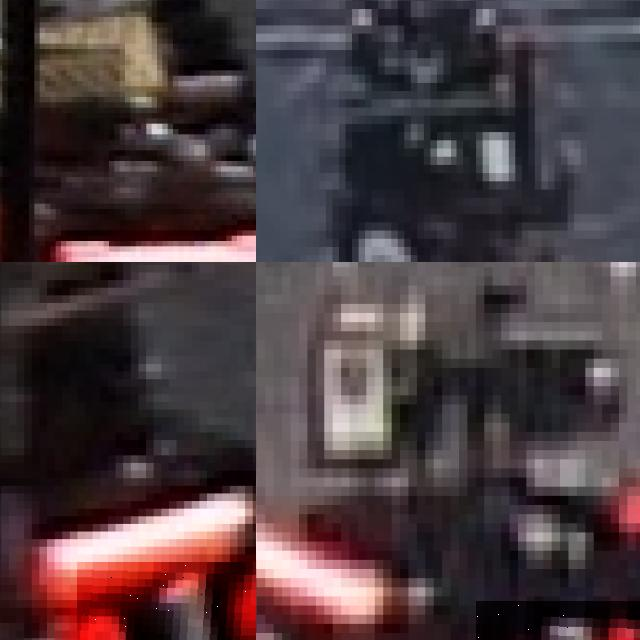R1: (77, 562, 256, 640)
R3: (476, 601, 640, 640)
